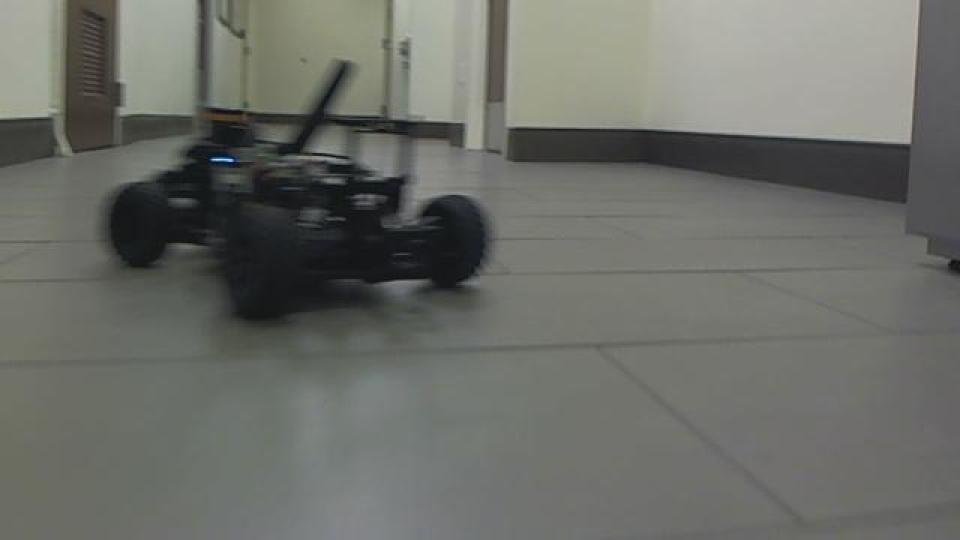car: (104, 55, 492, 322)
